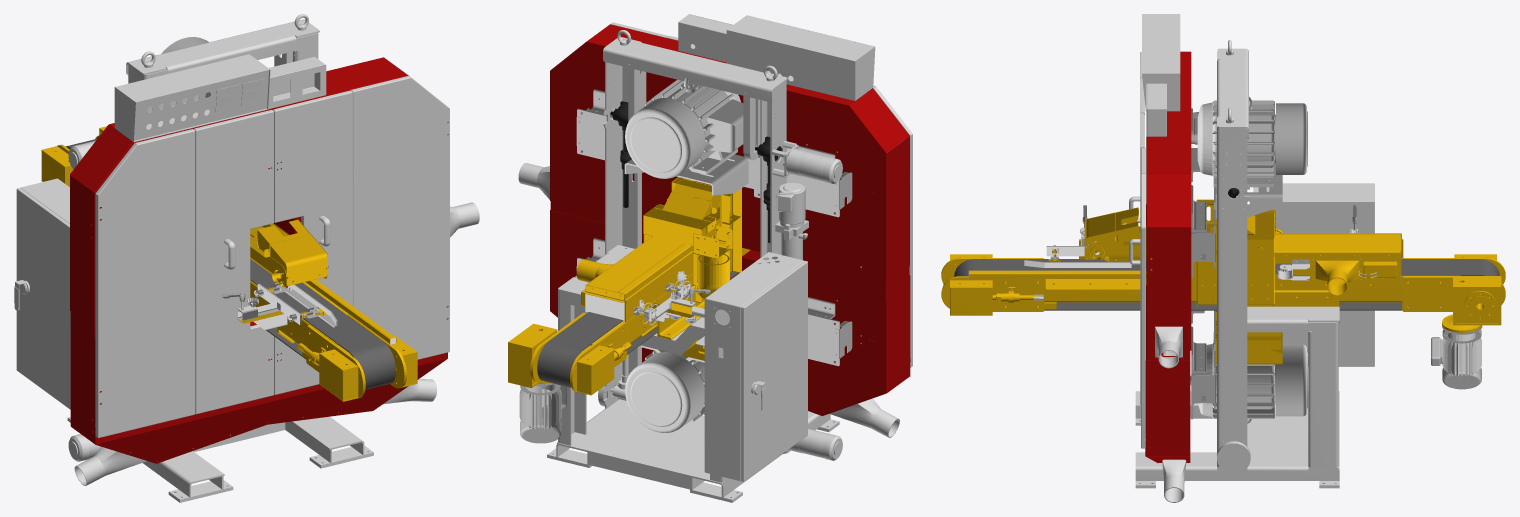
3 views of the same model, side by side, from view 1: azimuth 30°, elevation 25°; view 2: azimuth 150°, elevation 25°; view 3: azimuth 270°, elevation 25° (orthographic). The views are drawn at different scales.
Visible parts, largest first — view 1: object 25, Object001, Object003, object 22, object 7, Object002; view 2: object 25, Object001, Object003, object 26, object 22, object 7, object 32, Object002, object 21, Object004, object 20, object 24; view 3: object 25, object 22, Object001, object 26, object 7, Object003, Object002, object 32, object 21, object 20.
Part boxes in pixels (bbox=[...]): object 25: bbox=[67, 14, 479, 502]; Object001: bbox=[70, 57, 447, 463]; Object003: bbox=[14, 178, 70, 409]; object 22: bbox=[41, 126, 417, 401]; object 7: bbox=[237, 219, 390, 345]; Object002: bbox=[66, 139, 395, 389]; object 25: bbox=[518, 14, 912, 502]; Object001: bbox=[550, 24, 910, 415]; Object003: bbox=[695, 252, 807, 481]; object 26: bbox=[624, 78, 748, 432]; object 22: bbox=[508, 236, 750, 395]; object 7: bbox=[585, 177, 741, 360]; object 32: bbox=[576, 89, 852, 366]; Object002: bbox=[537, 271, 738, 387]; object 21: bbox=[520, 383, 566, 443]; Object004: bbox=[610, 101, 781, 242]; object 20: bbox=[519, 389, 561, 429]; object 24: bbox=[585, 294, 624, 321]; object 25: bbox=[1129, 14, 1339, 502]; object 22: bbox=[941, 233, 1505, 332]; Object001: bbox=[1145, 51, 1191, 462]; object 26: bbox=[1190, 97, 1307, 423]; object 7: bbox=[969, 199, 1403, 364]; Object003: bbox=[1253, 183, 1374, 366]; Object002: bbox=[954, 259, 1499, 310]; object 32: bbox=[1191, 108, 1215, 419]; object 21: bbox=[1431, 325, 1482, 389]; object 20: bbox=[1442, 338, 1481, 376].
Size of the model in its own units: 0.08 by 0.0794 by 0.1097.
